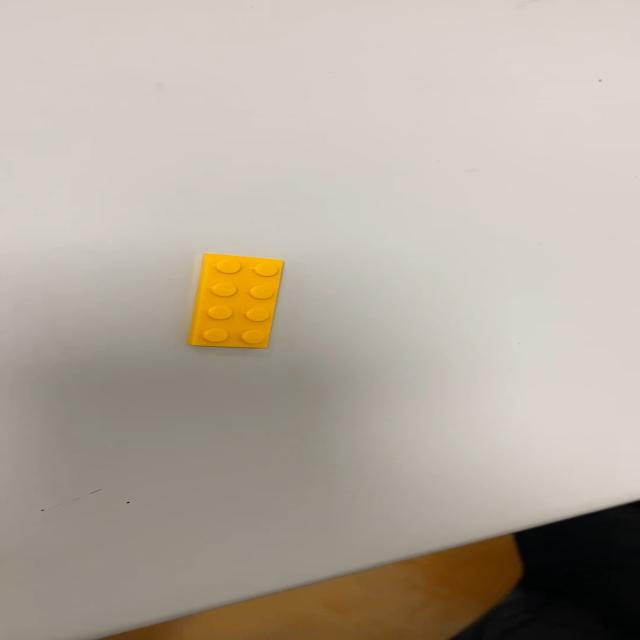C4x2x0: (186, 252, 284, 348)
